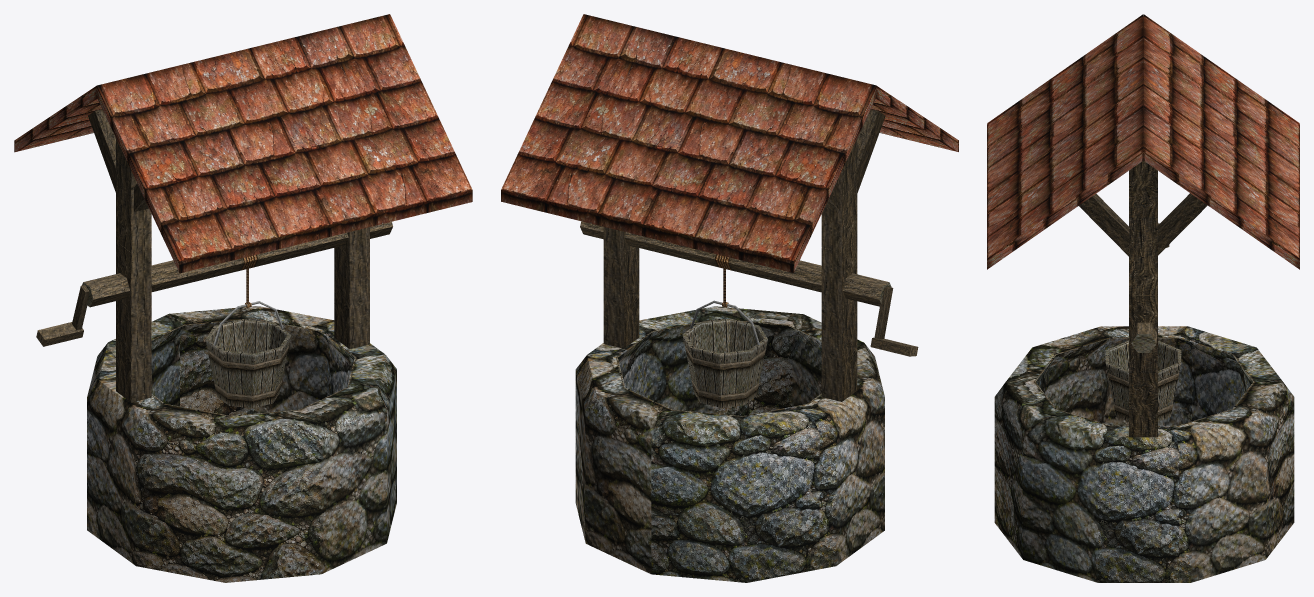
The model's file is mm9_deco_well.glb.
The picture shows the model from 3 angles, left to right: view 1: azimuth 30°, elevation 25°; view 2: azimuth 150°, elevation 25°; view 3: azimuth 270°, elevation 25°; orthographic projection. The views are drawn at different scales.
Parts seen in each view (by area): view 1: Well; view 2: Well; view 3: Well.
Part boxes in pixels (box(x1,y1,x2,y2)): Well: box(14, 14, 472, 582); Well: box(501, 14, 958, 582); Well: box(987, 14, 1299, 582).
Bounding box in the file's own units: 2.38 × 3.13 × 2.01.
2 materials, 2 textured.
